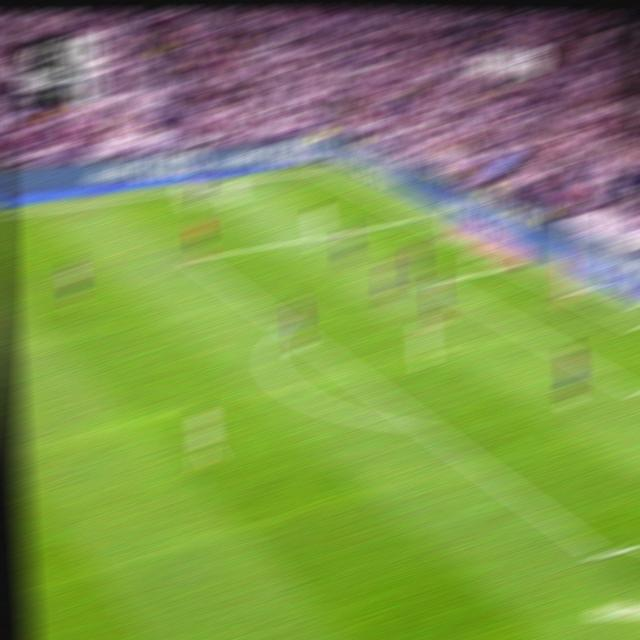bigarea_bottom_inner: (589, 537, 614, 570)
bigarea_top_inner: (184, 251, 203, 266)
bottom_arc_area_intersection: (412, 414, 434, 435)
corner: (311, 164, 330, 175)
smallarea_bottom_inner: (632, 385, 640, 404)
smallarea_top_inner: (432, 277, 447, 287)
top_arc_area_intersection: (276, 317, 295, 332)
